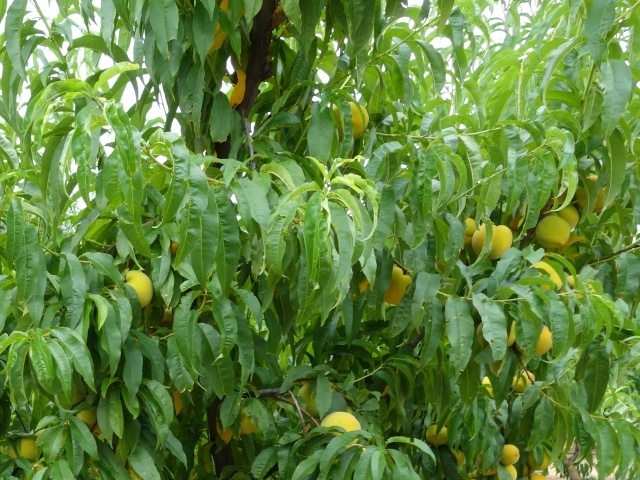peach: (329, 94, 373, 142), (318, 405, 367, 447), (112, 265, 156, 310), (471, 215, 515, 259), (511, 318, 555, 359), (534, 210, 574, 252), (382, 260, 418, 306), (289, 374, 323, 418), (5, 429, 42, 467), (548, 200, 583, 229), (423, 420, 454, 452), (512, 365, 539, 397), (496, 438, 524, 468), (458, 216, 483, 249), (497, 461, 520, 480)
